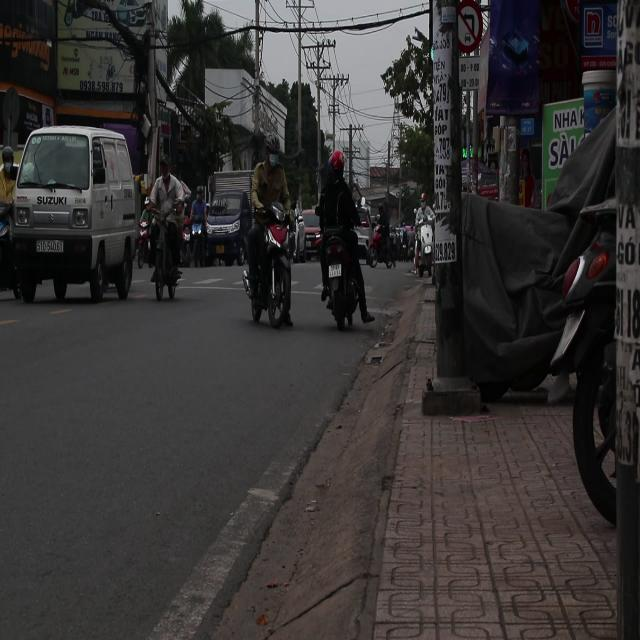car: (303, 214, 322, 254)
motorbike: (244, 206, 297, 329), (322, 231, 366, 344), (146, 201, 185, 313)
truck: (6, 125, 140, 304), (204, 172, 256, 268)
